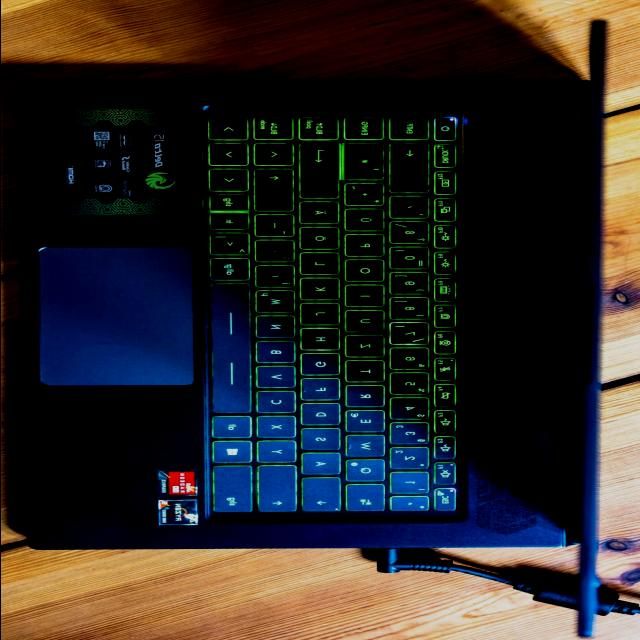0: (392, 249, 432, 271)
1: (392, 473, 432, 495)
2: (391, 449, 431, 471)
3: (391, 423, 432, 447)
4: (391, 399, 431, 421)
5: (391, 374, 431, 396)
6: (391, 348, 432, 371)
7: (391, 324, 432, 346)
8: (390, 299, 431, 321)
9: (391, 273, 432, 297)
a: (302, 454, 344, 476)
accent: (391, 198, 431, 220)
ae: (301, 203, 342, 226)
alt-left: (212, 417, 254, 440)
altgr-right: (210, 259, 252, 283)
b: (257, 342, 299, 366)
c: (258, 392, 299, 415)
caret: (391, 497, 432, 513)
comma: (256, 267, 298, 289)
d: (302, 405, 343, 427)
del: (390, 144, 432, 194)
e: (347, 412, 388, 434)
enter: (301, 144, 342, 200)
f: (303, 380, 343, 402)
g: (302, 355, 343, 377)
h: (301, 329, 343, 352)
hash: (344, 144, 386, 182)
i: (346, 286, 387, 308)
j: (302, 304, 343, 326)
k: (301, 278, 343, 302)
keyboard: (197, 106, 469, 525)
l: (301, 254, 342, 277)
less: (209, 234, 251, 258)
m: (256, 291, 298, 315)
minus: (256, 215, 296, 239)
n: (257, 316, 299, 340)
o: (346, 260, 387, 283)
oe: (301, 228, 342, 251)
p: (346, 235, 387, 258)
plus: (345, 185, 387, 207)
point: (256, 241, 296, 264)
q: (347, 460, 388, 484)
r: (346, 386, 387, 408)
s: (302, 429, 343, 451)
shift-left: (259, 466, 300, 514)
shift-lock: (303, 478, 345, 514)
shift-right: (256, 170, 297, 213)
space: (210, 284, 254, 416)
ss: (391, 223, 431, 245)
strg-left: (214, 466, 256, 514)
strg-right: (210, 194, 252, 212)
t: (347, 362, 388, 384)
tab: (347, 486, 387, 514)
u: (346, 311, 388, 334)
ue: (345, 210, 387, 234)
v: (257, 366, 299, 390)
w: (347, 436, 389, 458)
x: (258, 416, 300, 440)
y: (258, 442, 299, 464)
z: (346, 336, 387, 358)
